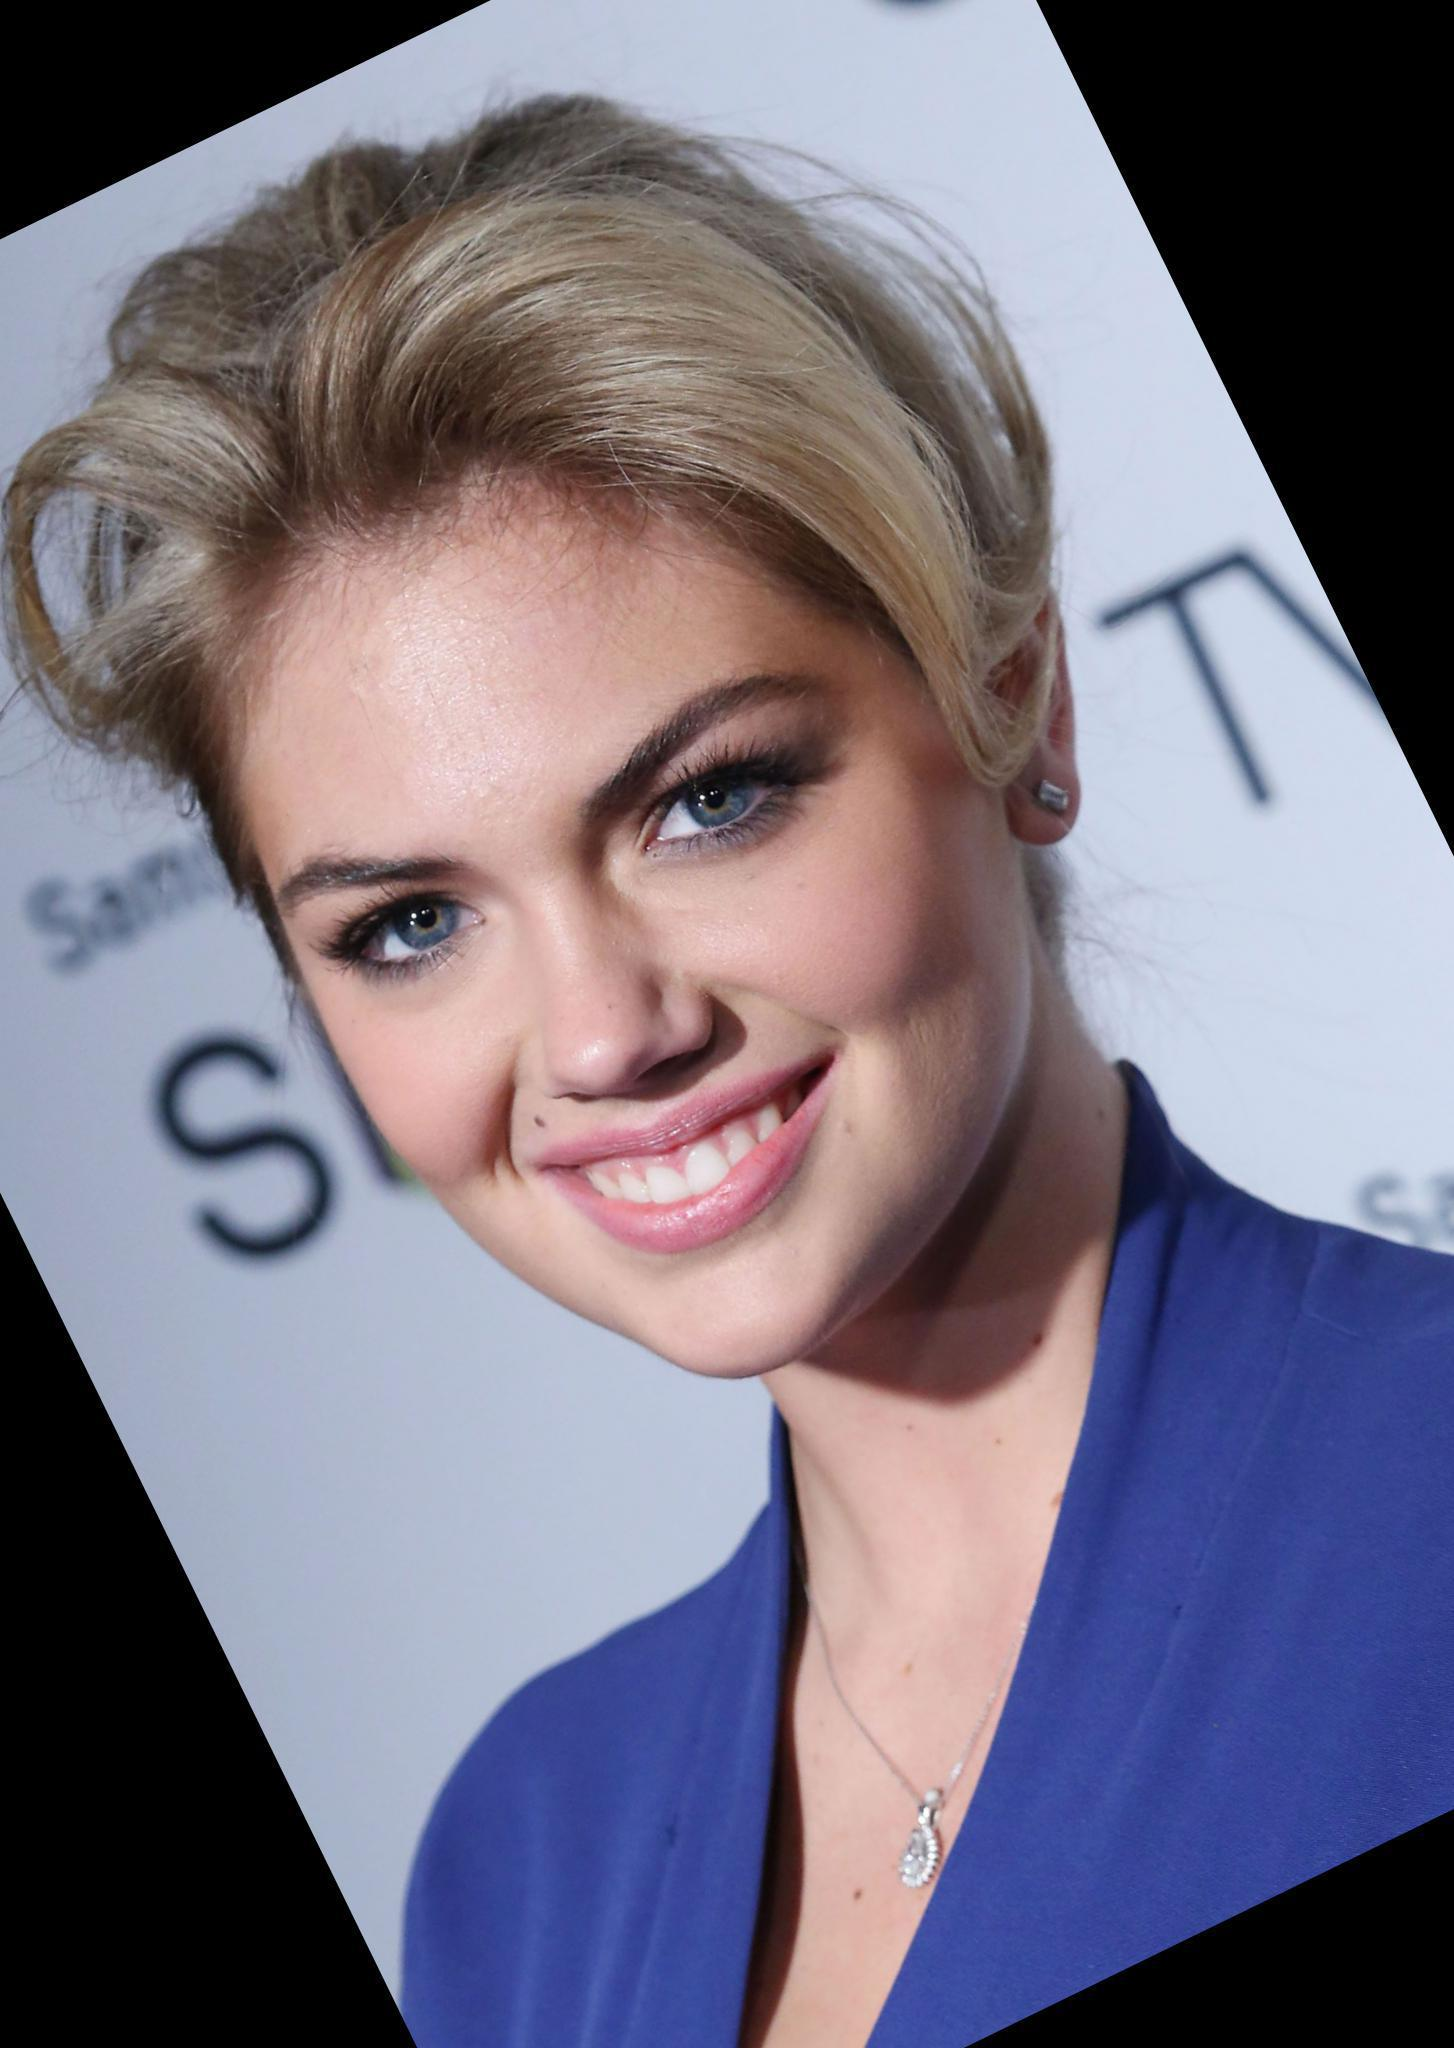Sober: (242, 571, 1020, 1370)
